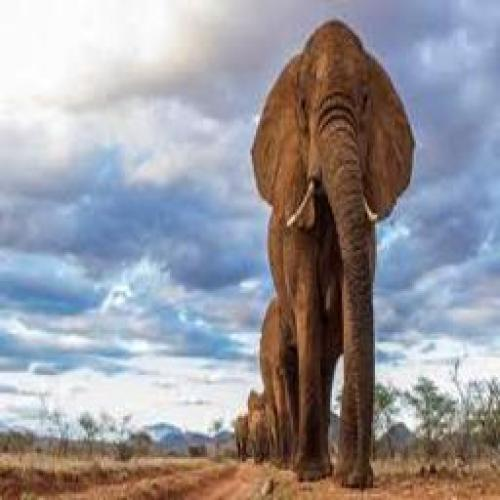african_elephant-endangered: (256, 24, 413, 486), (260, 299, 334, 461), (248, 389, 272, 458), (232, 416, 250, 455)
